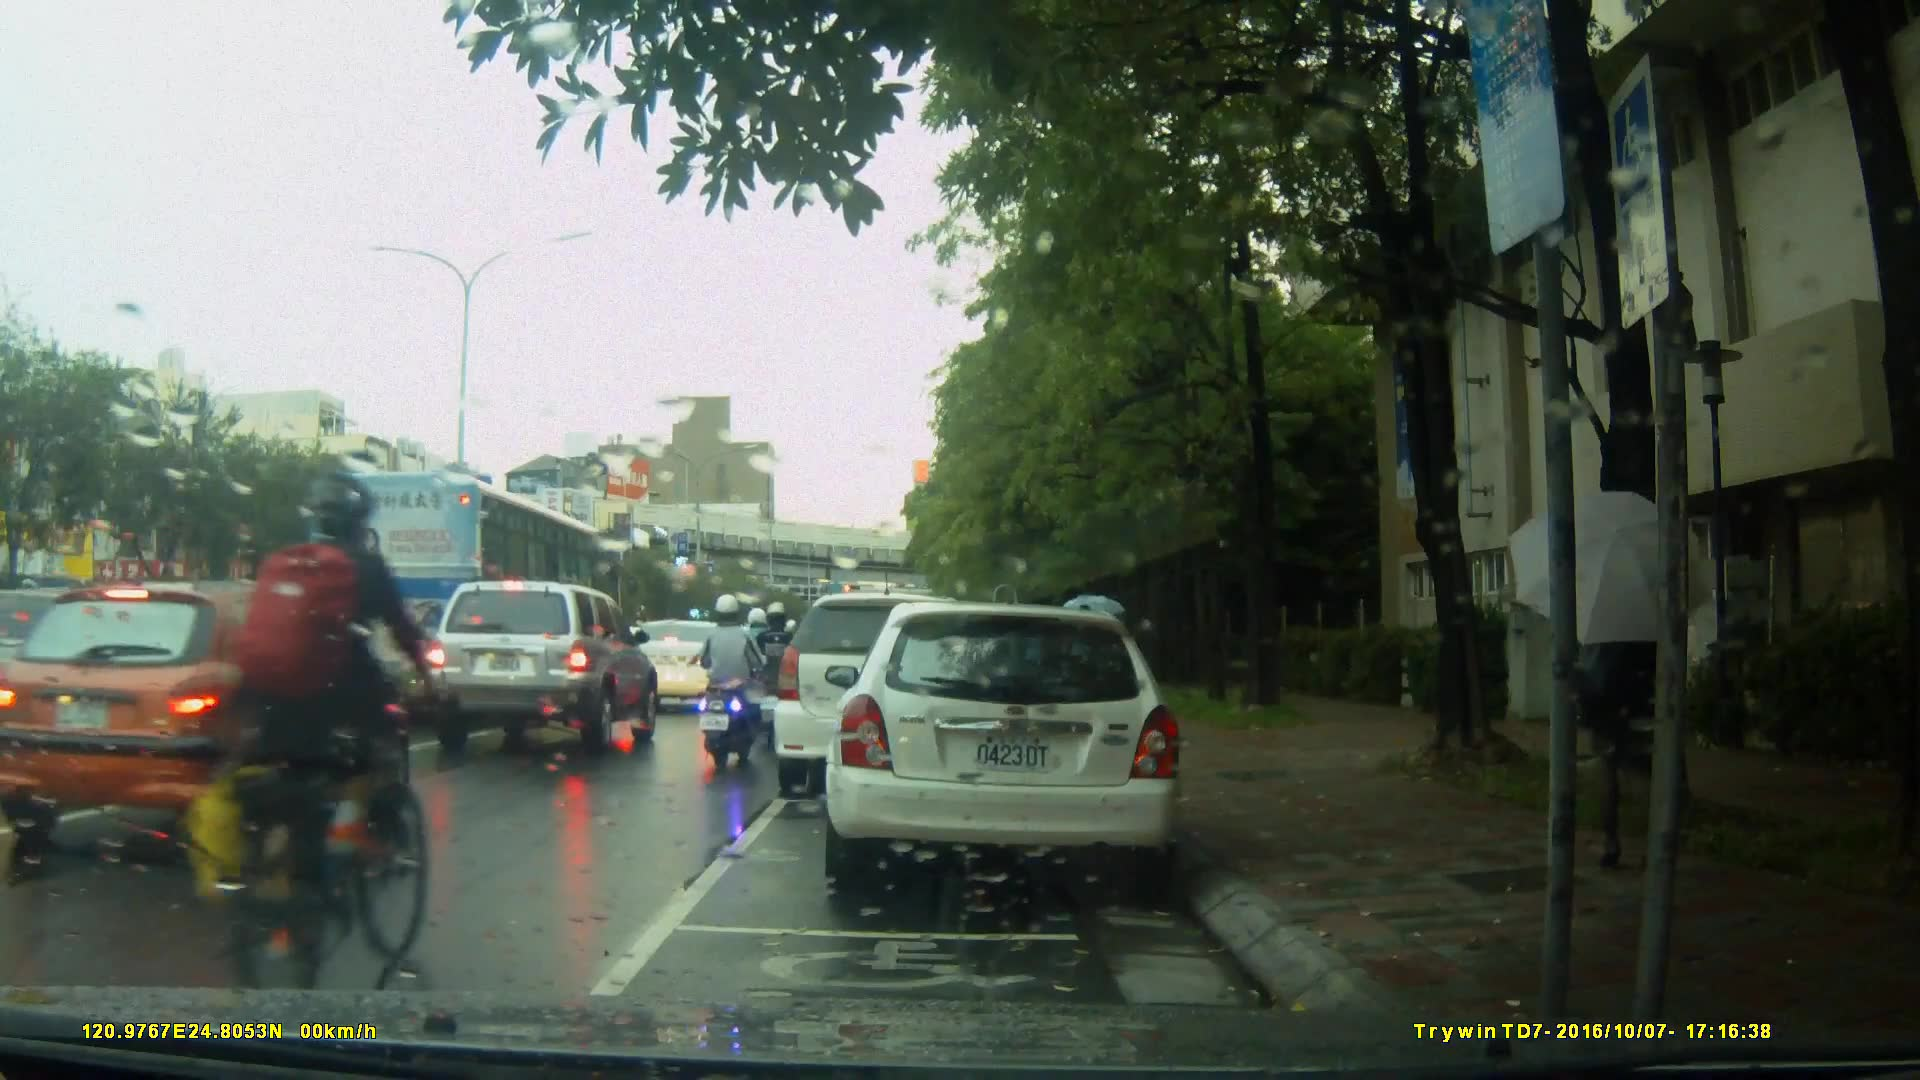pedestrian: (1583, 524, 1716, 884)
rider: (156, 472, 425, 999), (694, 590, 764, 772), (751, 605, 808, 747), (735, 602, 782, 719)
vehicle: (13, 582, 403, 868), (835, 594, 1194, 898), (307, 471, 621, 739), (776, 590, 1026, 784), (419, 578, 661, 753)
